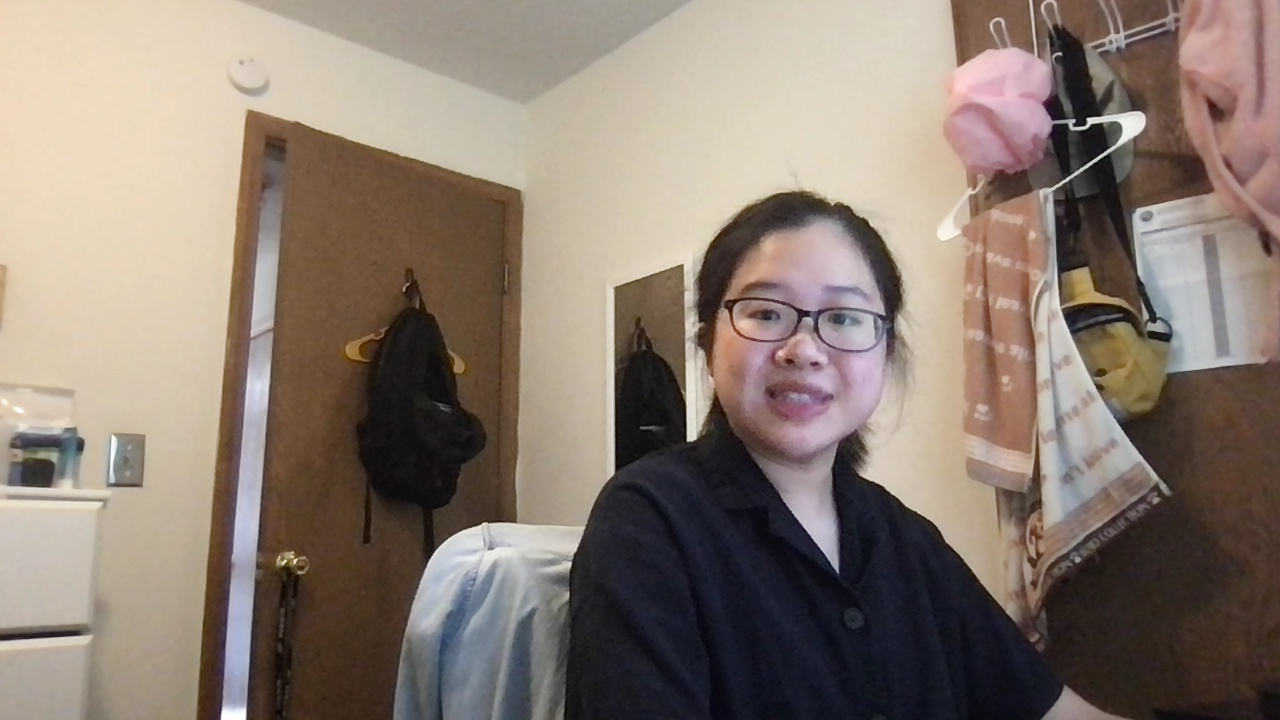NoMask: (704, 345, 898, 454)
